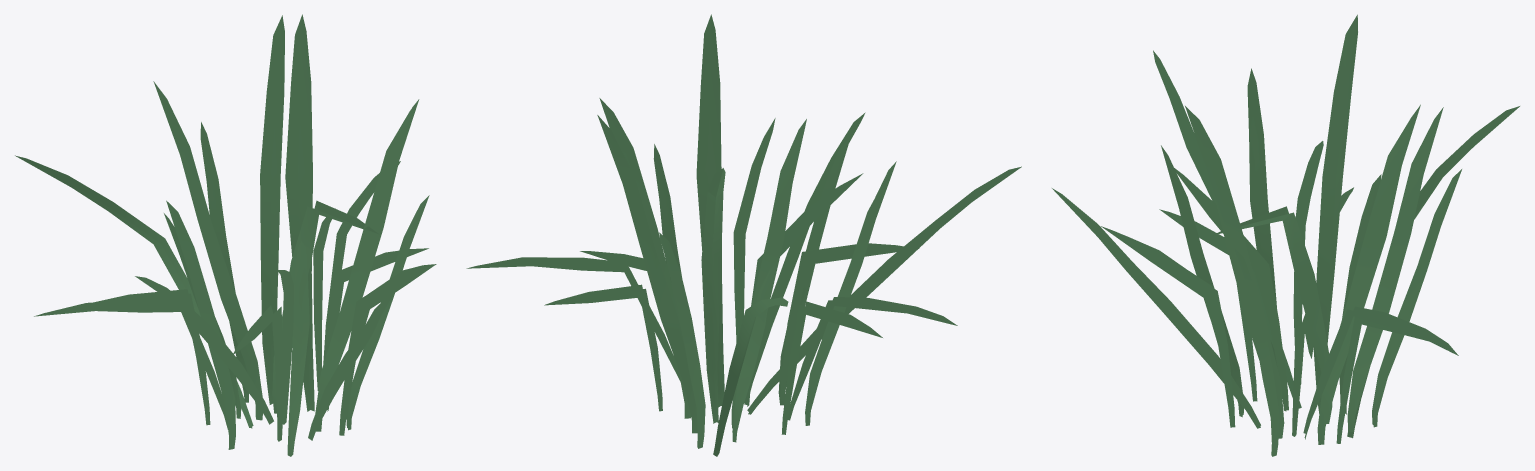
The model's file is Grass_Wispy_Short.fbx.
3 renders of one model, left to right at view 1: azimuth 30°, elevation 25°; view 2: azimuth 150°, elevation 25°; view 3: azimuth 270°, elevation 25°, orthographic. The views are drawn at different scales.
Parts seen in each view (by area): view 1: Grass_Wispy_Short; view 2: Grass_Wispy_Short; view 3: Grass_Wispy_Short.
Part boxes in pixels (x1=…): Grass_Wispy_Short: x1=15, y1=14, x2=436, y2=456; Grass_Wispy_Short: x1=466, y1=14, x2=1021, y2=456; Grass_Wispy_Short: x1=1052, y1=14, x2=1519, y2=456.
Size of the model in its own units: 132 by 107 by 121.
